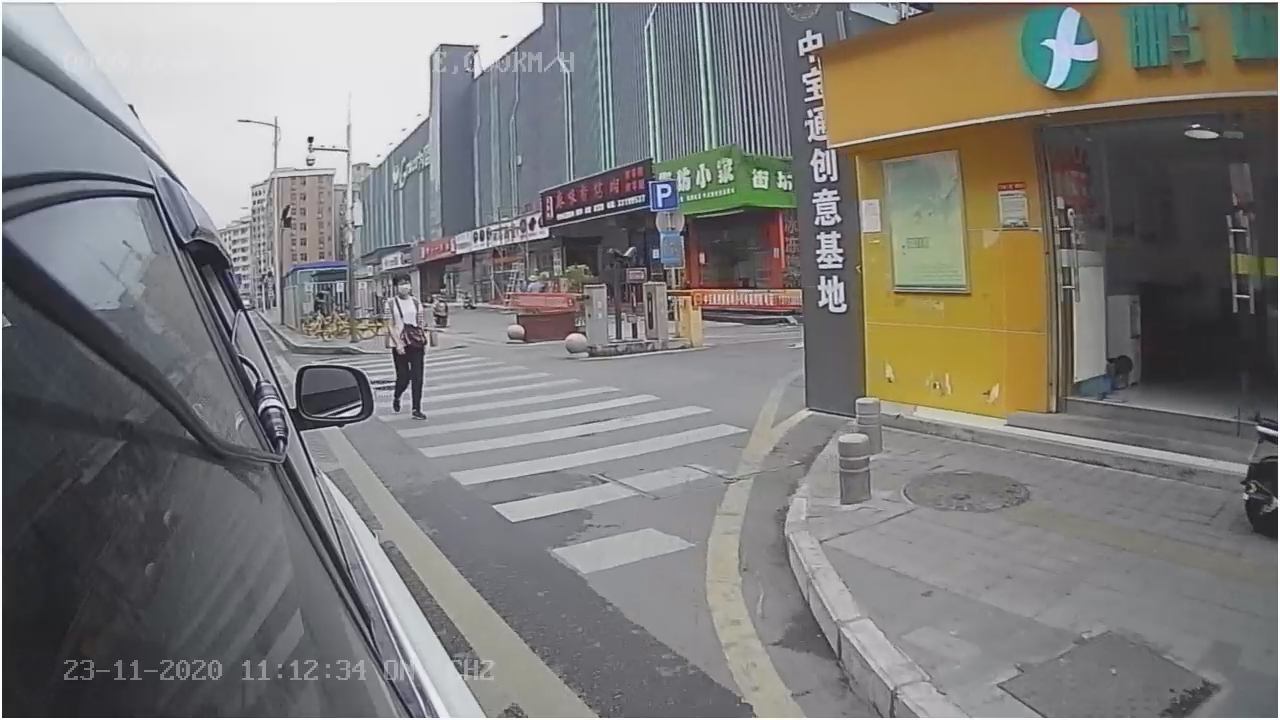person: (374, 271, 433, 428)
